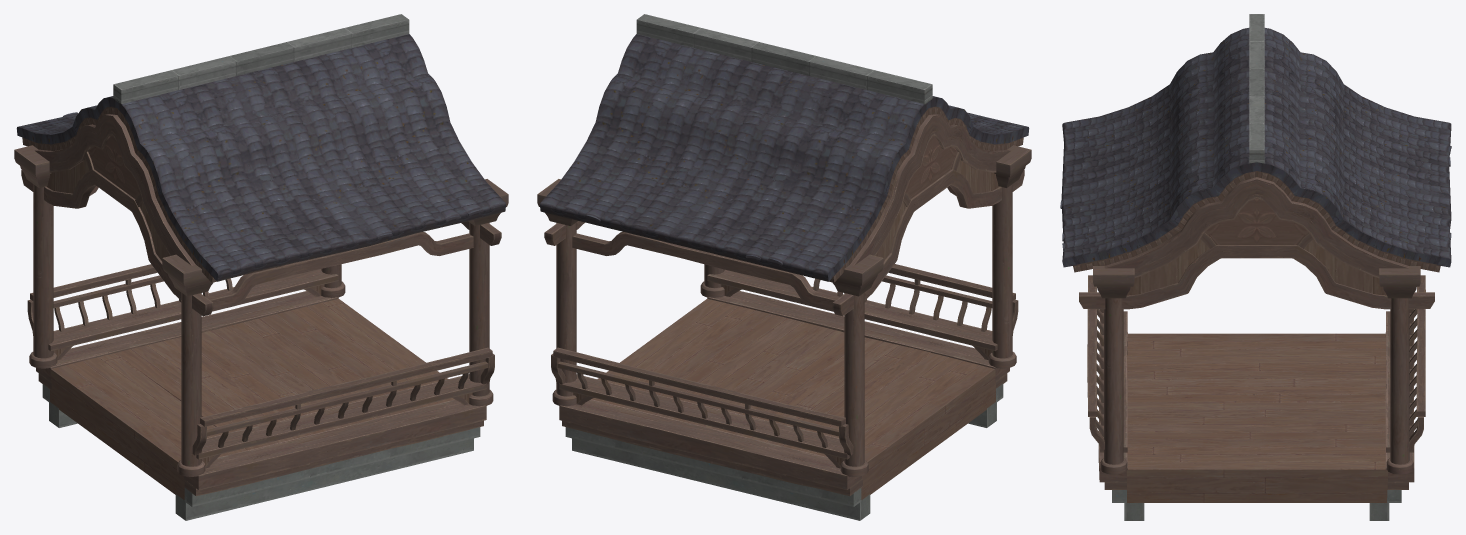
File: Homeworld_Exterior_Cyg_Build_YlbChanglang_02_Lod0.fbx
The picture shows the model from 3 angles, left to right: view 1: azimuth 30°, elevation 25°; view 2: azimuth 150°, elevation 25°; view 3: azimuth 270°, elevation 25°; orthographic projection. The views are drawn at different scales.
Visible parts, largest first — view 1: Homeworld_Exterior_Cyg_Build_YlbChanglang_02_Lod0; view 2: Homeworld_Exterior_Cyg_Build_YlbChanglang_02_Lod0; view 3: Homeworld_Exterior_Cyg_Build_YlbChanglang_02_Lod0.
Part boxes in pixels (x1,y1,x2,y2): Homeworld_Exterior_Cyg_Build_YlbChanglang_02_Lod0: (14, 14, 508, 520); Homeworld_Exterior_Cyg_Build_YlbChanglang_02_Lod0: (537, 14, 1031, 520); Homeworld_Exterior_Cyg_Build_YlbChanglang_02_Lod0: (1060, 14, 1451, 520).
Bounding box in the file's own units: 7.16 × 8.08 × 7.72.
